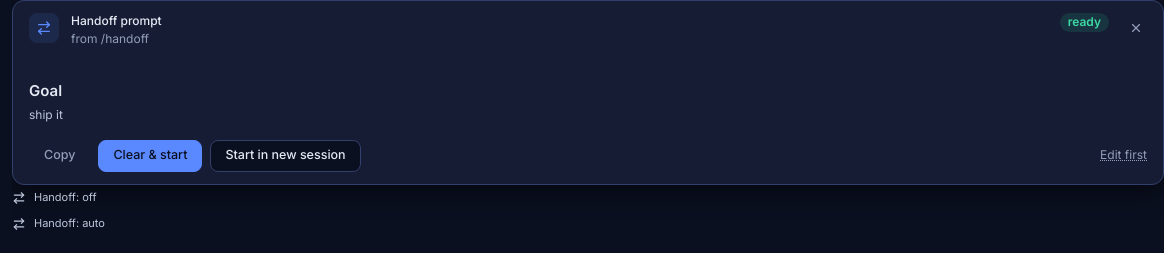
HandoffModeToggle (per session) › two sessions are independent
Expected: the button with test id "handoff-mode" reads "Handoff: auto", 12,211 -> 105,237
Click the button with test id "handoff-mode" showing "Handoff: off": x=54, y=198 12,185 -> 96,211
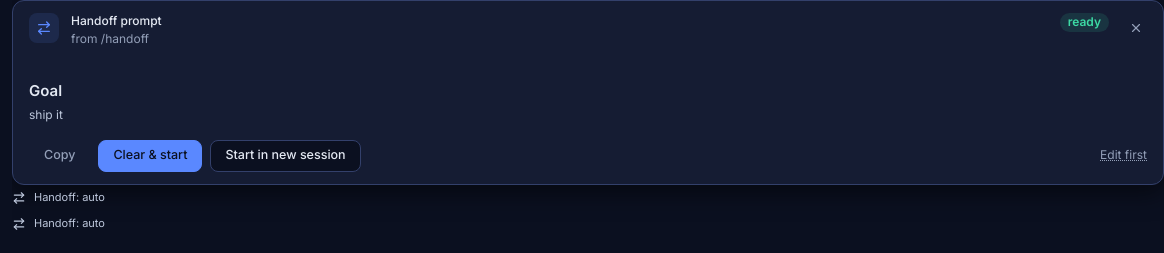
Expected: the 1st button with test id "handoff-mode" reads "Handoff: auto", 12,185 -> 105,211
Click the 2nd button with test id "handoff-mode": x=58, y=224 12,211 -> 105,237
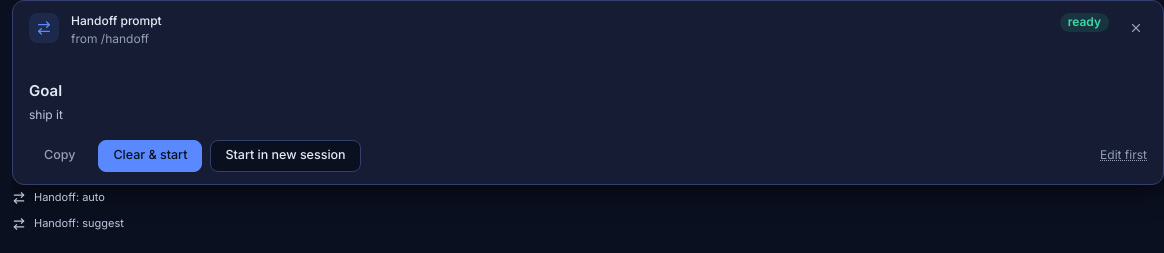
Expected: the button with test id "handoff-mode" reads "Handoff: auto", 12,185 -> 105,211
Expected: the button with test id "handoff-mode" reads "Handoff: suggest", 12,211 -> 124,237
